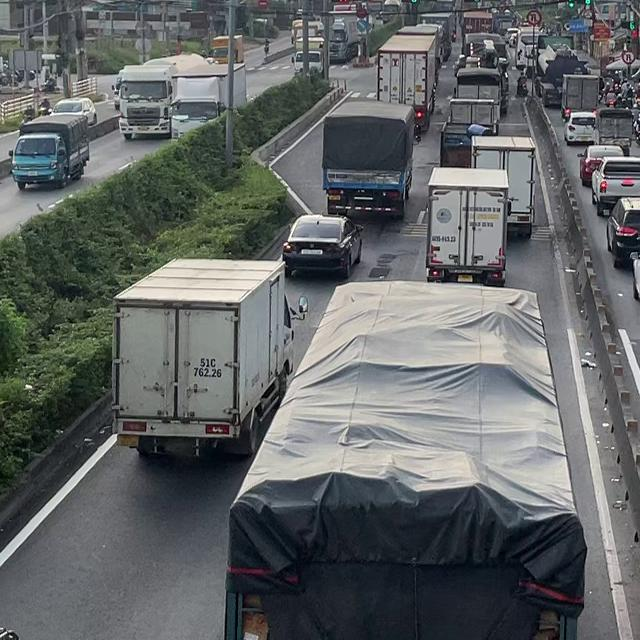bus: (514, 26, 546, 69)
car: (281, 213, 363, 278), (591, 156, 639, 216), (605, 196, 639, 268), (577, 144, 625, 186), (50, 97, 97, 126), (563, 111, 597, 145), (631, 250, 639, 301)
truck: (224, 279, 587, 639), (110, 256, 307, 460), (321, 98, 415, 218), (425, 166, 509, 286), (117, 51, 210, 140), (470, 134, 537, 239), (9, 113, 90, 190), (376, 33, 438, 132), (172, 66, 243, 138), (533, 35, 590, 107), (452, 66, 509, 115), (439, 122, 496, 166), (560, 73, 602, 121), (593, 107, 634, 154), (449, 99, 500, 134), (463, 39, 511, 69), (462, 10, 492, 35)
